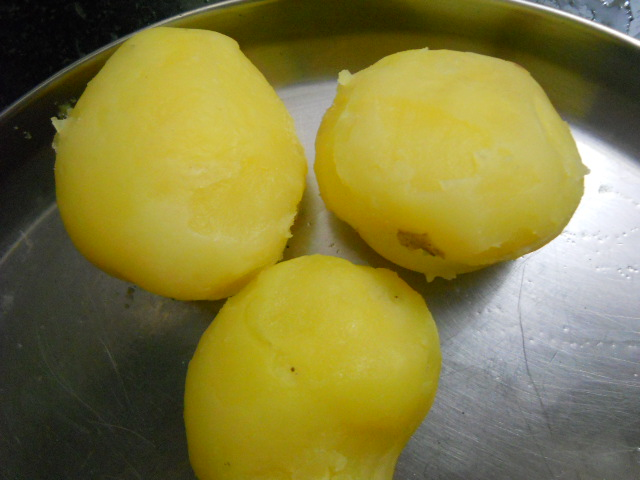boiled potatoes: (69, 25, 301, 304), (319, 37, 576, 285), (193, 261, 454, 480)
